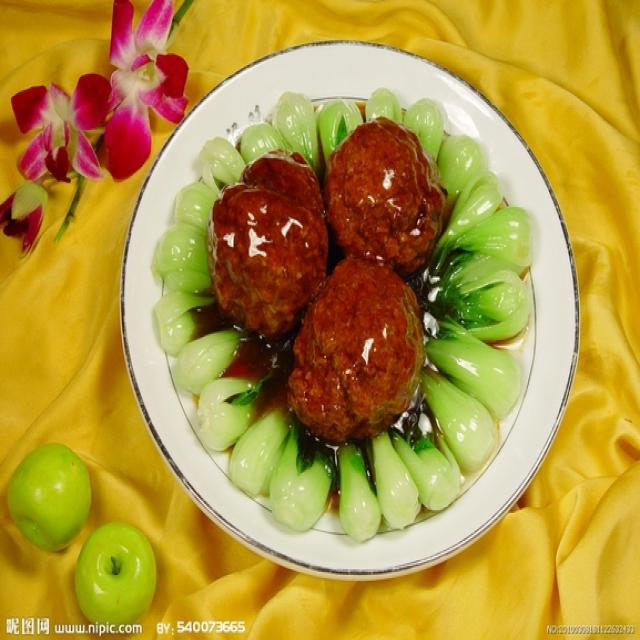Meatball: (278, 253, 435, 449), (196, 147, 336, 336), (324, 113, 456, 280)
